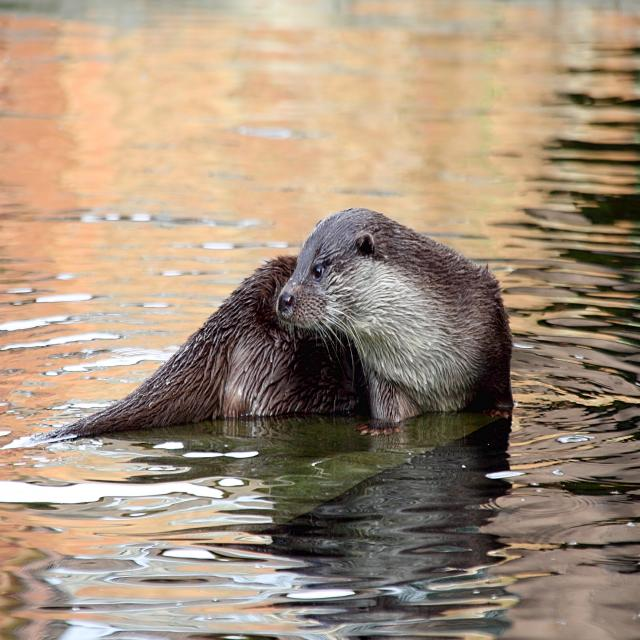otter: (61, 208, 513, 434)
